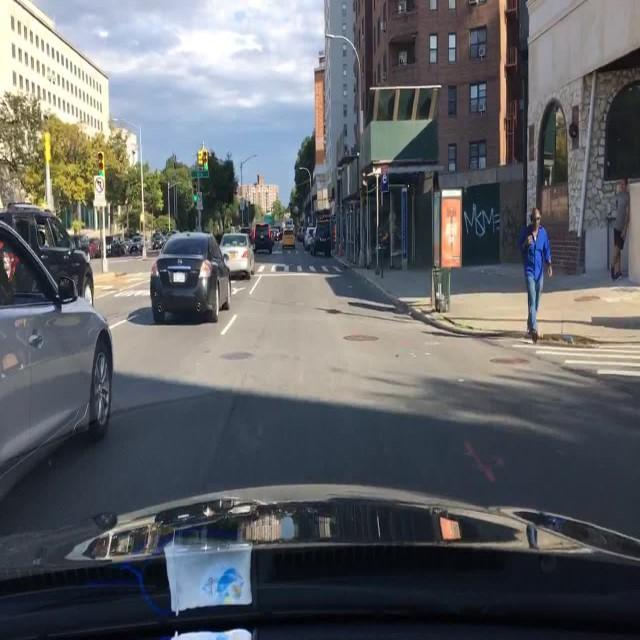normal: (0, 174, 117, 491), (150, 194, 256, 336)
